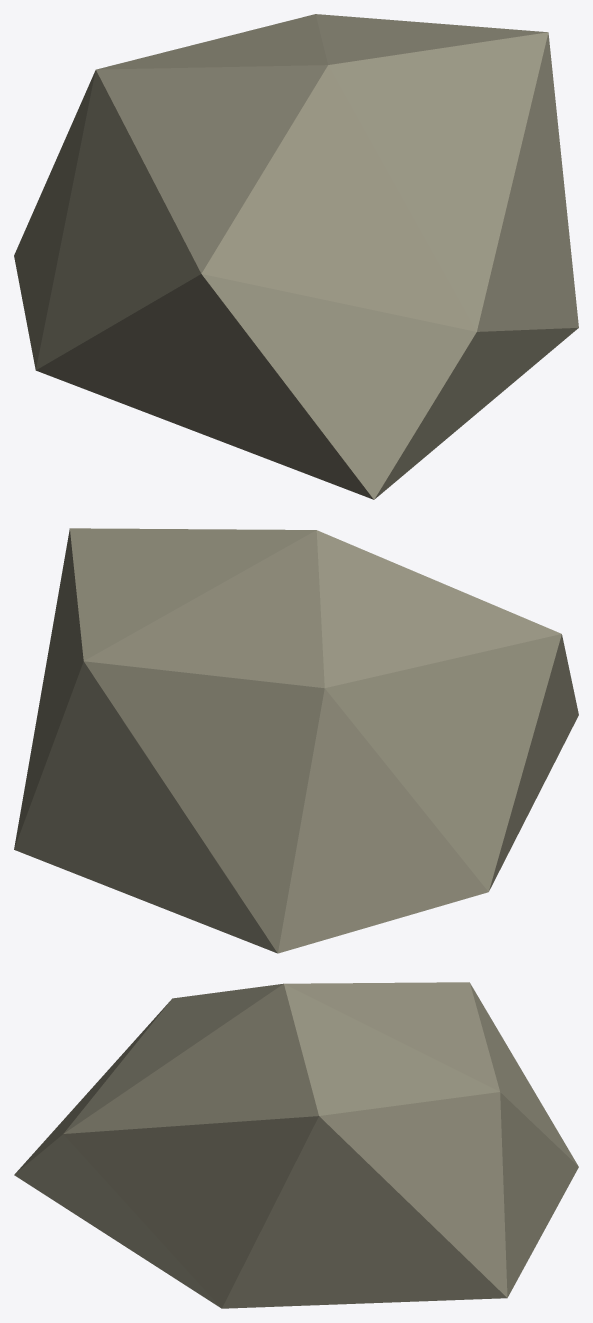
File: RockR2.fbx
3 views of the same model, one above another, from view 1: azimuth 30°, elevation 25°; view 2: azimuth 150°, elevation 25°; view 3: azimuth 270°, elevation 25° (orthographic). The views are drawn at different scales.
Parts seen in each view (by area): view 1: RockR2; view 2: RockR2; view 3: RockR2.
Boxes of the visible parts, bbox=[...] form: RockR2: bbox=[14, 14, 578, 499]; RockR2: bbox=[14, 528, 578, 953]; RockR2: bbox=[14, 982, 578, 1308].
Size of the model in its own units: 169 by 97.01 by 208.
